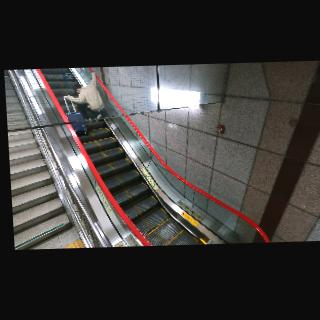anomaly: (62, 69, 108, 125)
